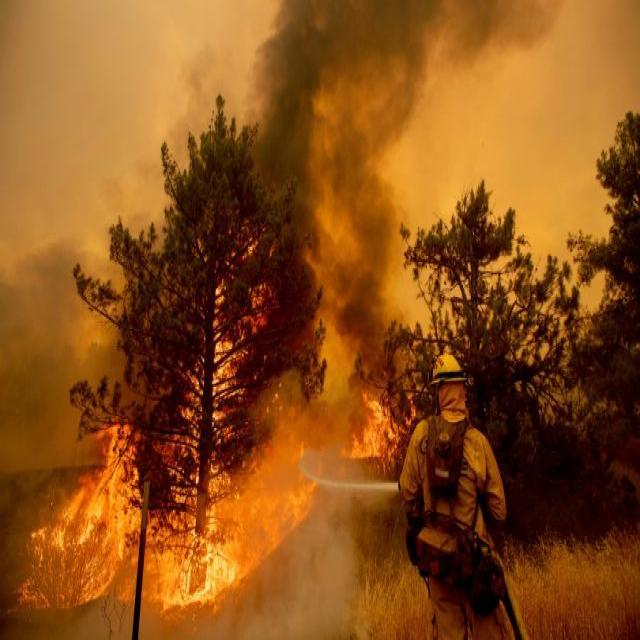Fire: (20, 255, 258, 619), (271, 396, 412, 554)
Smoke: (62, 8, 426, 388)
